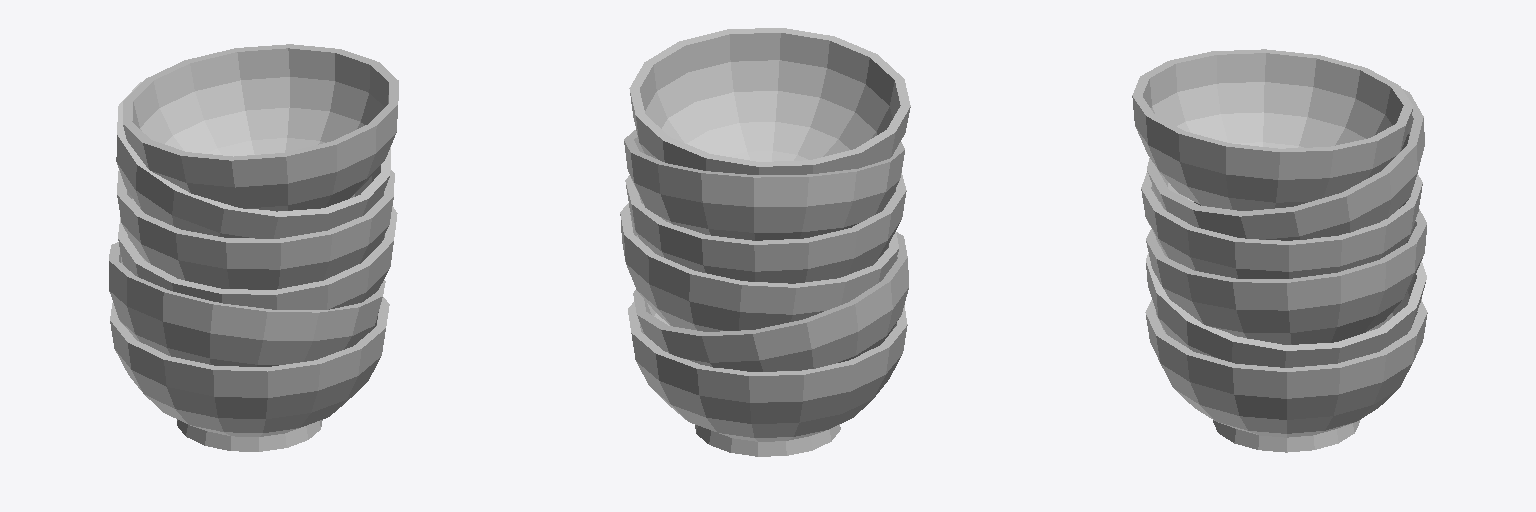
File: ChineseBowlStack_2.obj
The picture shows the model from 3 angles: view 1: azimuth 30°, elevation 25°; view 2: azimuth 150°, elevation 25°; view 3: azimuth 270°, elevation 25°; orthographic projection.
Parts seen in each view (by area): view 1: pSphere9; view 2: pSphere9; view 3: pSphere9.
Part boxes in pixels (x1,y1,x2,y2): pSphere9: (109, 44, 398, 451); pSphere9: (620, 28, 910, 456); pSphere9: (1132, 49, 1427, 452).
Size of the model in its own units: 2.82 by 3.54 by 2.84.